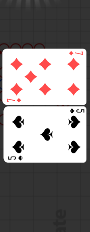5C: (7, 155, 24, 162)
7D: (6, 98, 22, 104)
